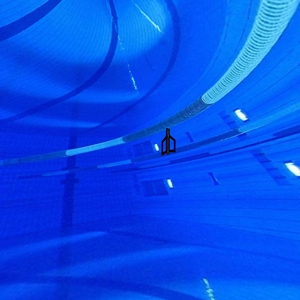submarine: (157, 127, 185, 161)
